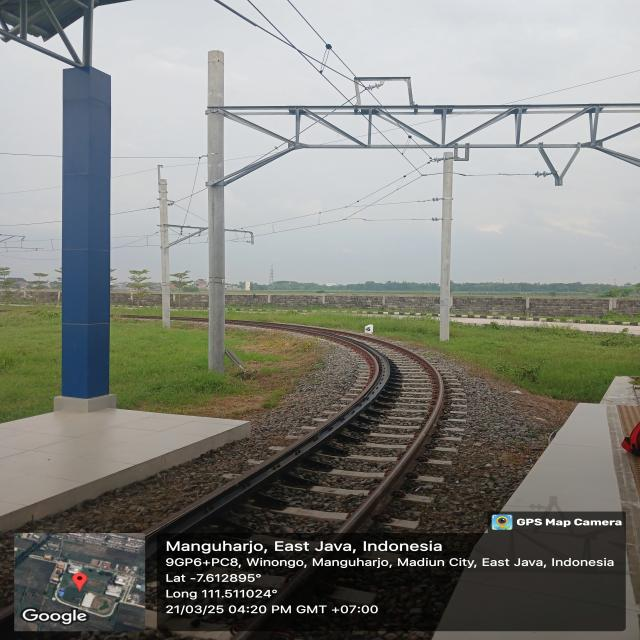rail-detection: (150, 324, 390, 536), (338, 340, 445, 534)
